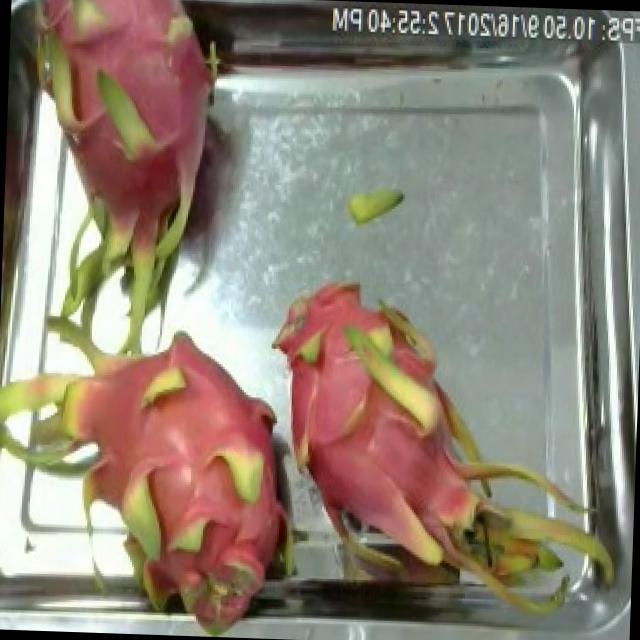Fruit: (79, 0, 227, 160)
